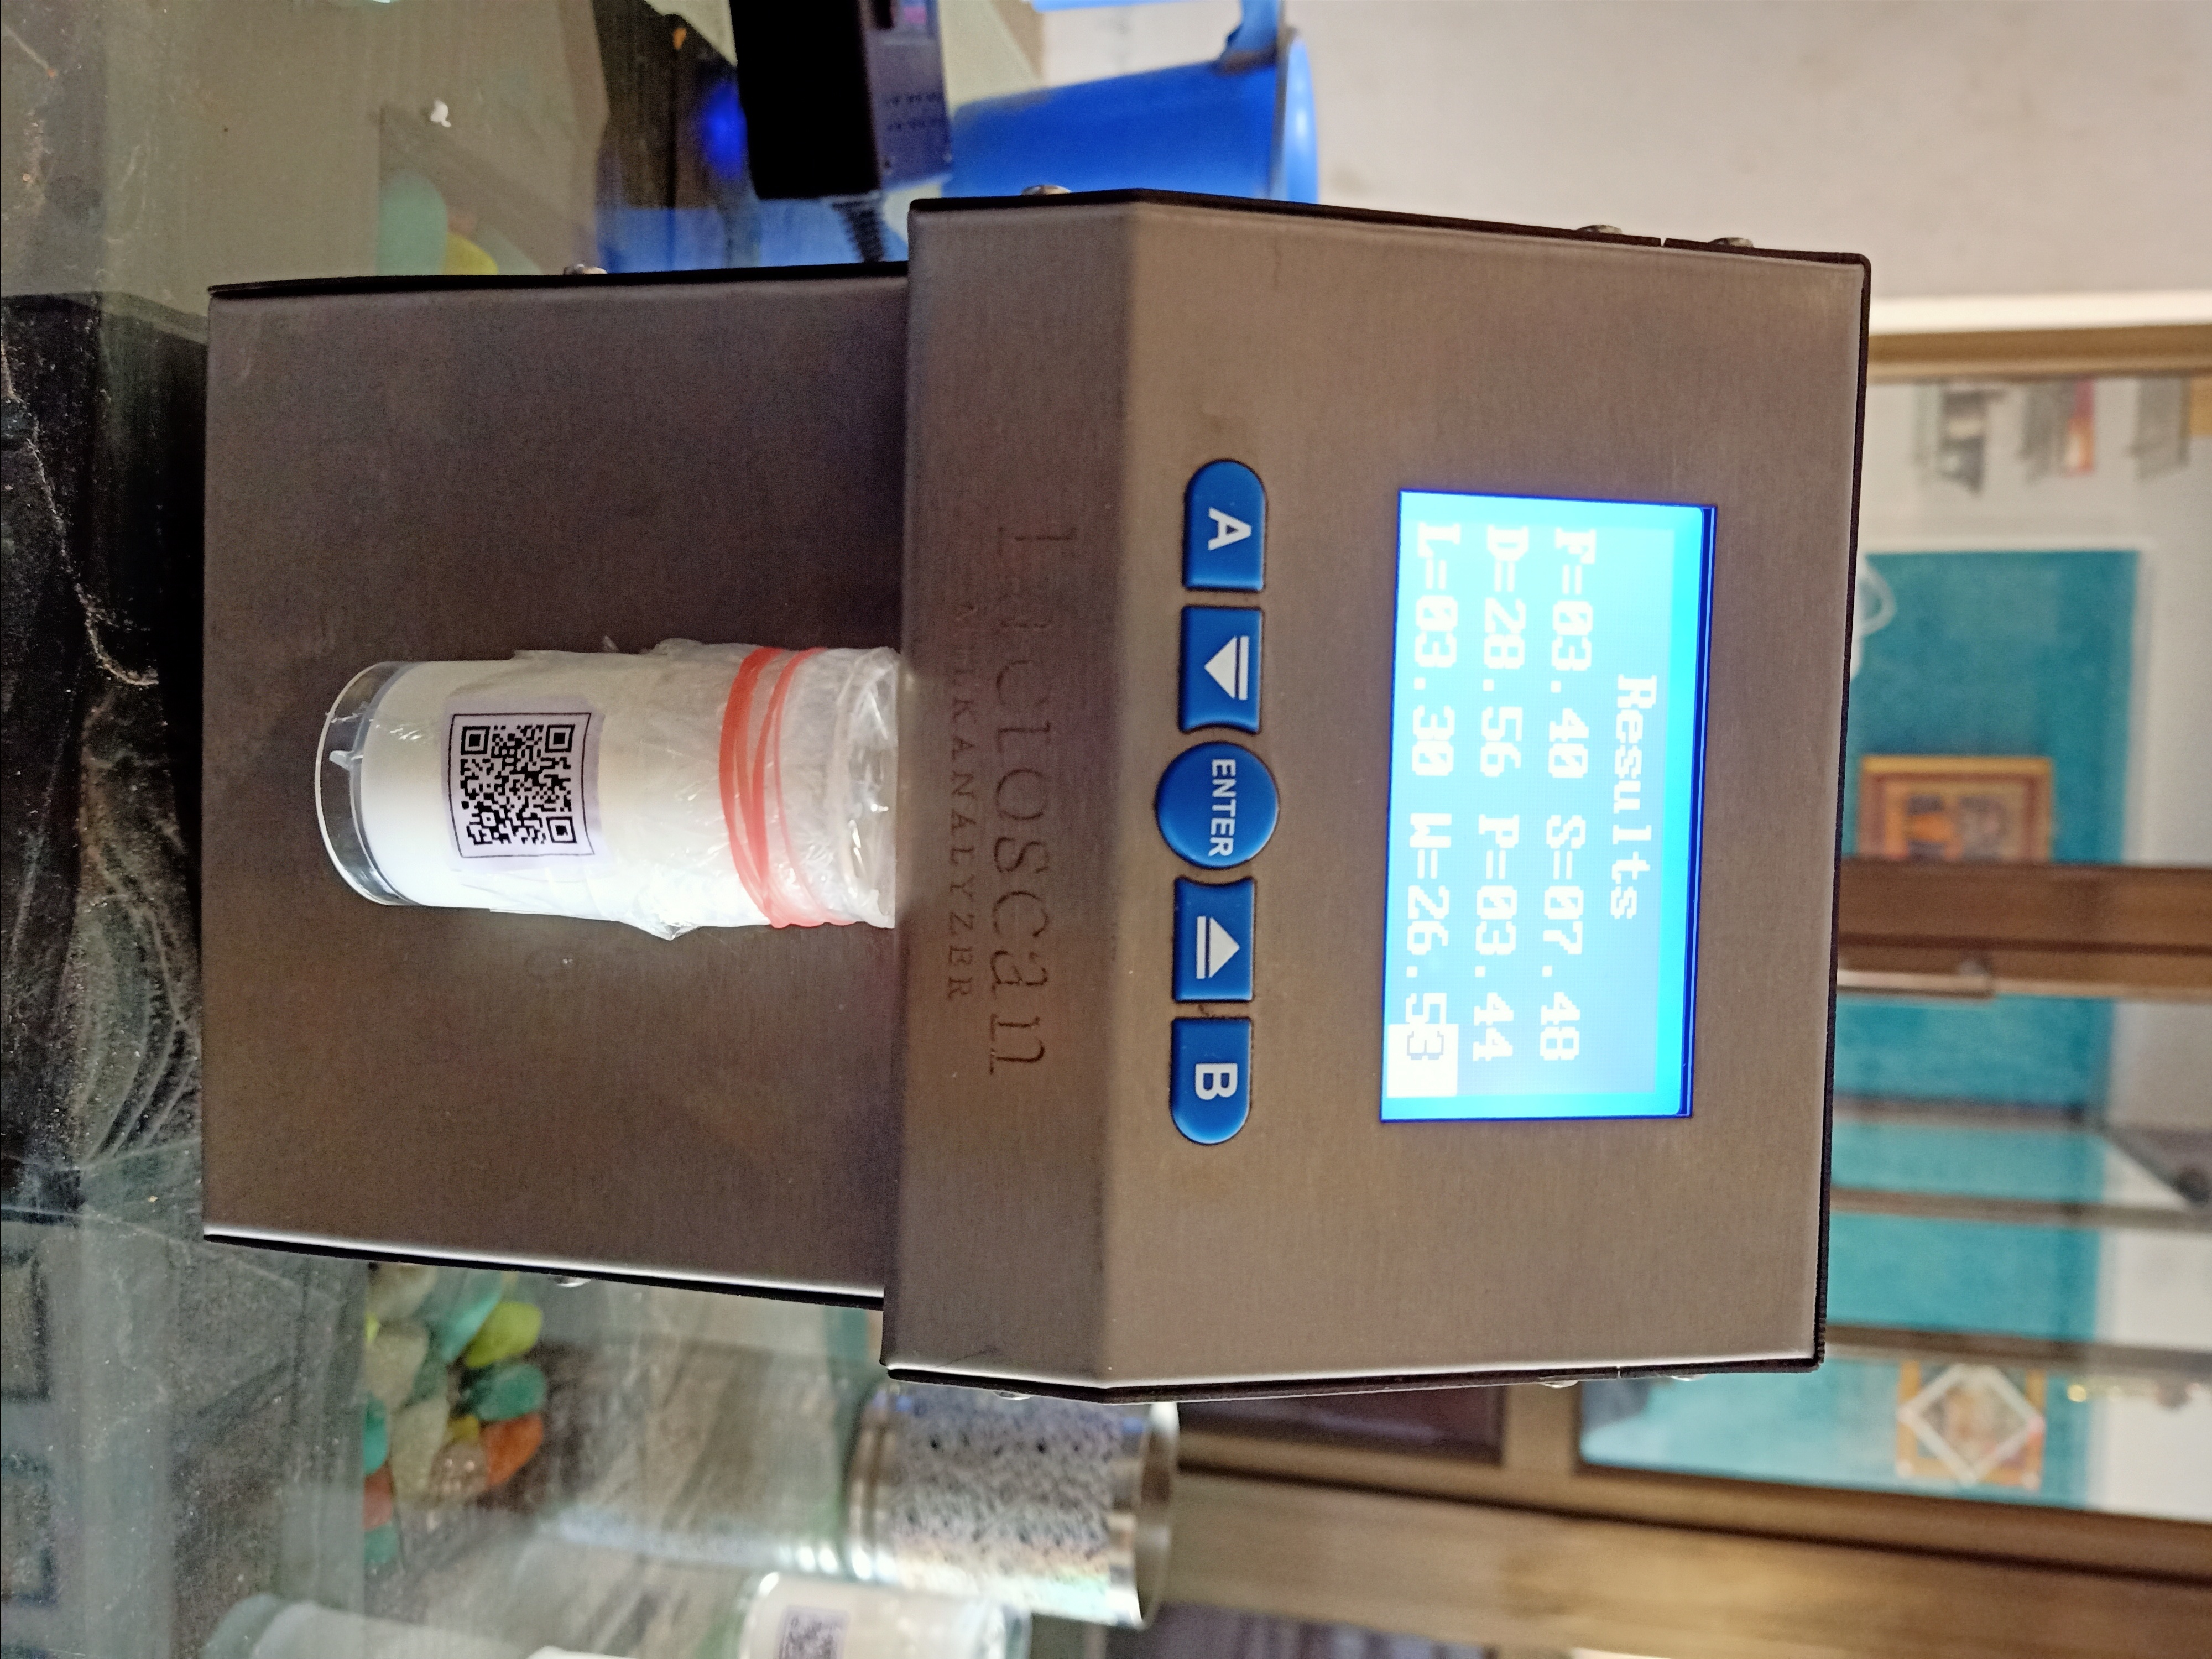lcd: (1374, 467, 1723, 1161)
qr: (441, 701, 610, 864)
